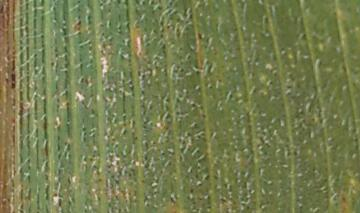tarspot: (195, 30, 205, 43)
